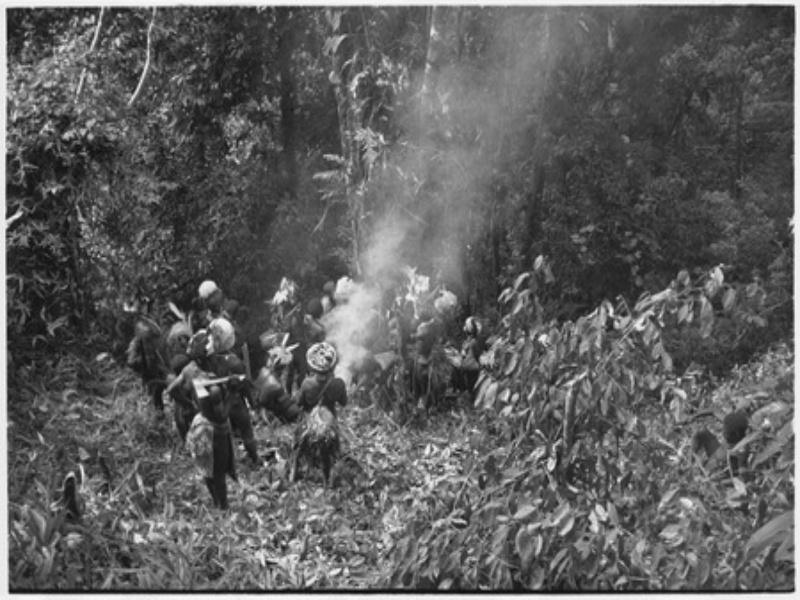smoke: (335, 230, 423, 373)
